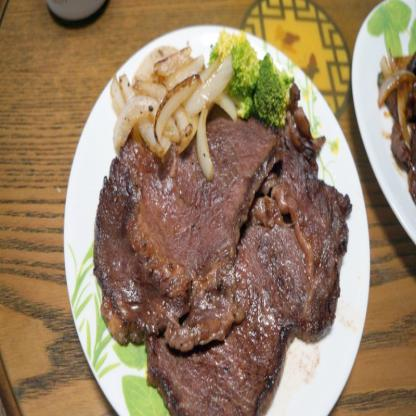Carne: (136, 148, 353, 415), (90, 118, 272, 321)
